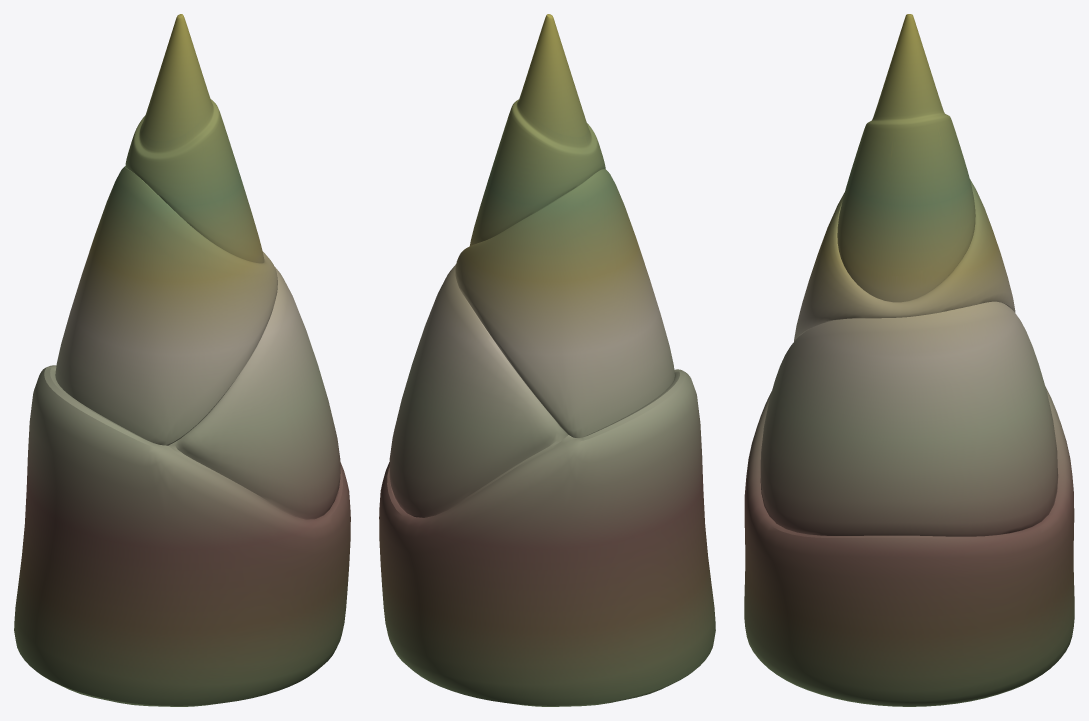
File: bamboo shoots.fbx
3 renders of one model, left to right at view 1: azimuth 30°, elevation 25°; view 2: azimuth 150°, elevation 25°; view 3: azimuth 270°, elevation 25°, orthographic.
Visible parts, largest first — view 1: bamboo shoots; view 2: bamboo shoots; view 3: bamboo shoots.
Part boxes in pixels (x1,y1,x2,y2): bamboo shoots: [14, 14, 350, 706]; bamboo shoots: [379, 14, 715, 706]; bamboo shoots: [744, 14, 1074, 706].
Bounding box in the file's own units: 29.49 × 61.01 × 28.96.
